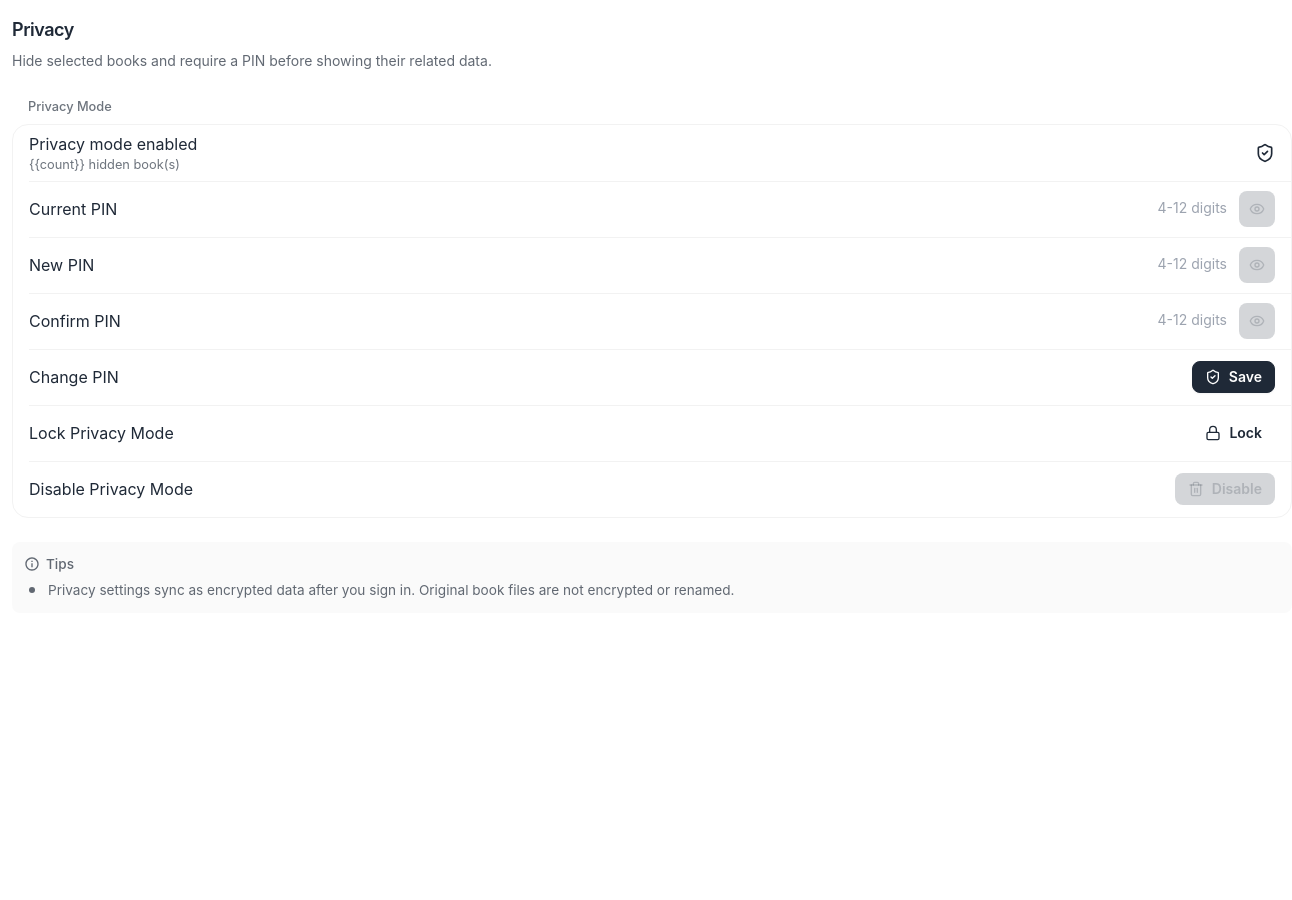
Test: restores controls after removing a PIN fails
Type "1234" into the password field labelled "Current PIN". click: (1127, 209)
box: [1019,191,1235,227]
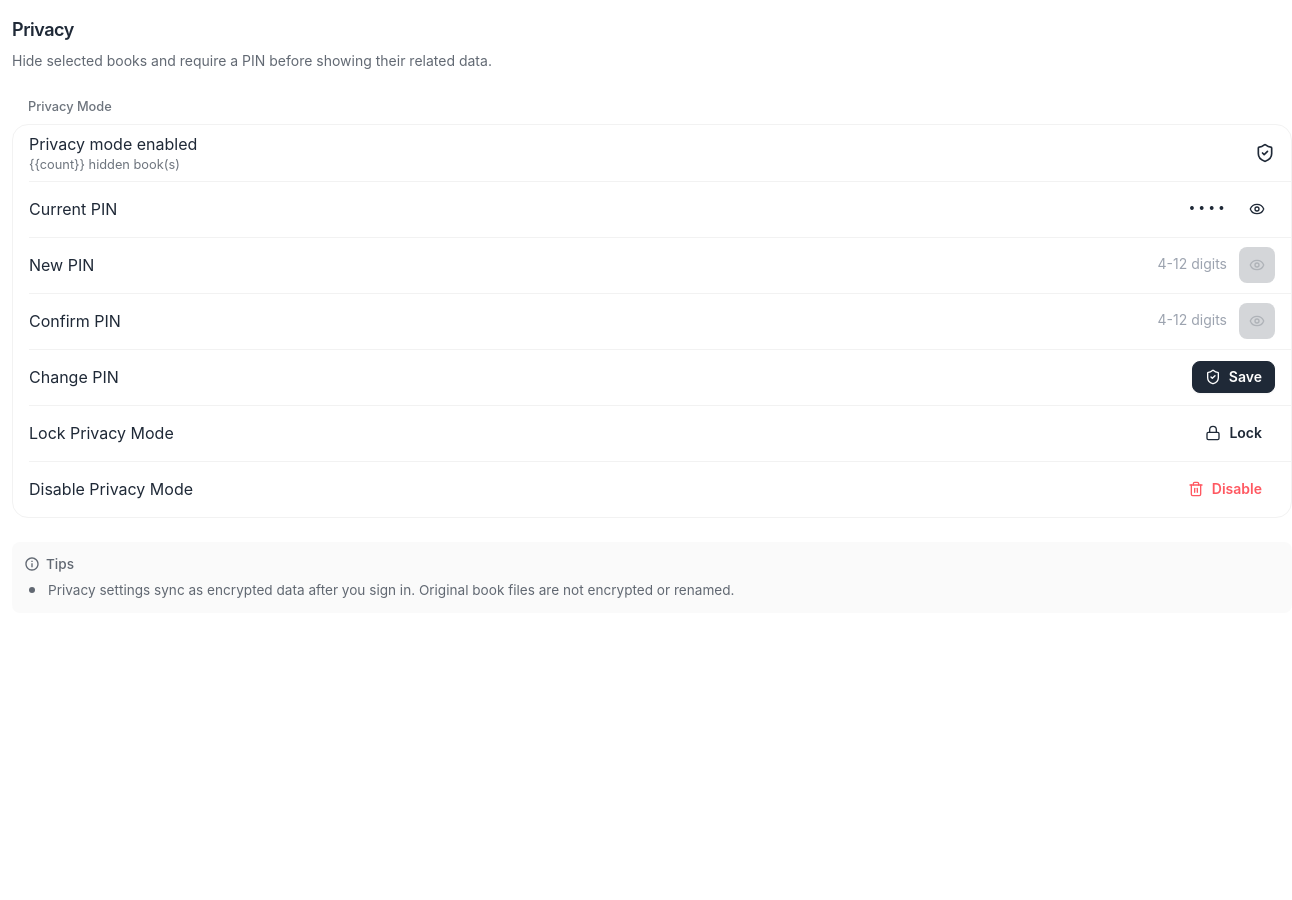
Click the button "Disable". click: (1225, 489)
box: [1175,473,1275,505]
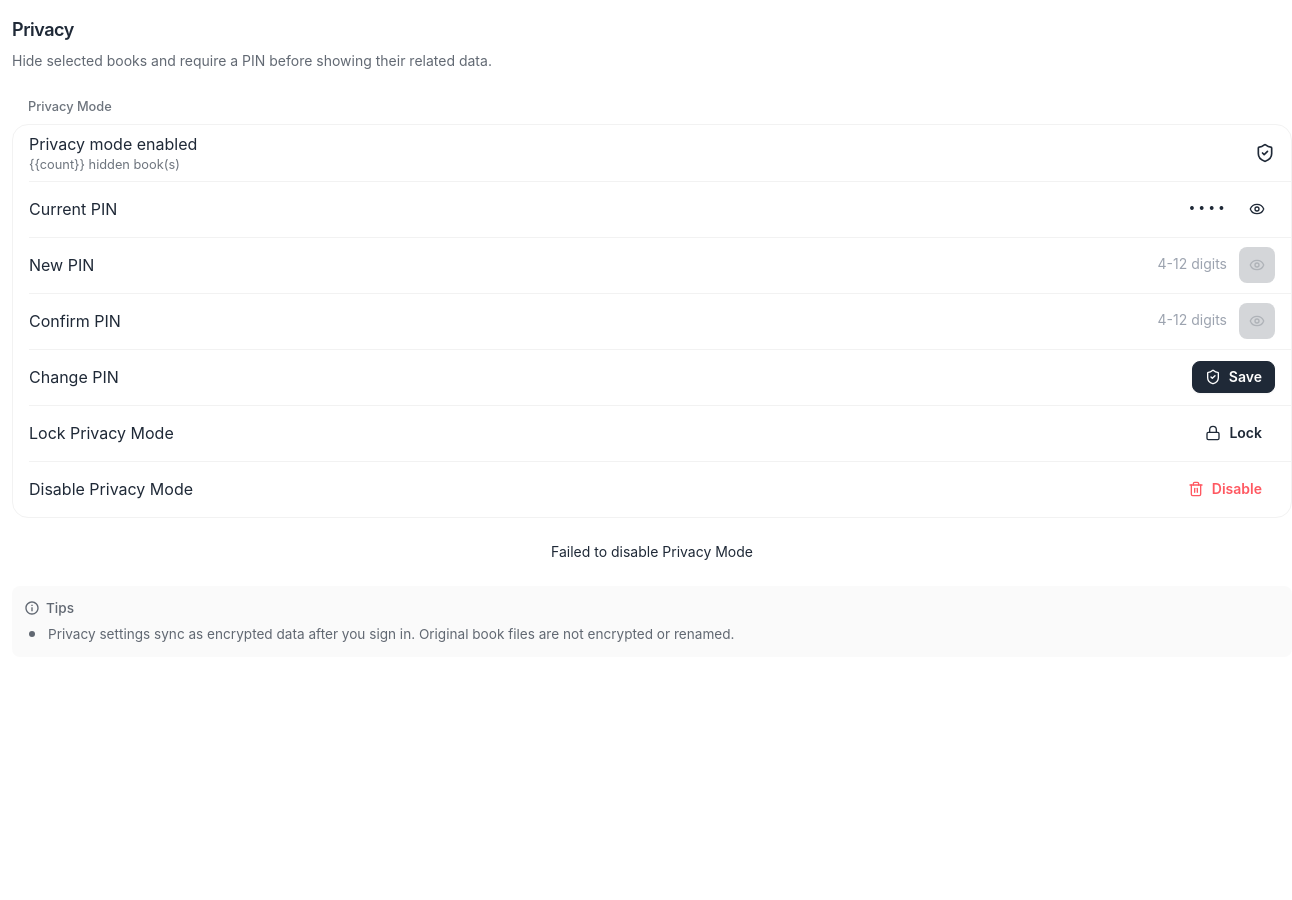
expect the password field labelled "Current PIN" is enabled: met, box [1019,191,1235,227]
expect the message reads "Failed to disable Privacy Mode": met, box [551,543,753,560]
